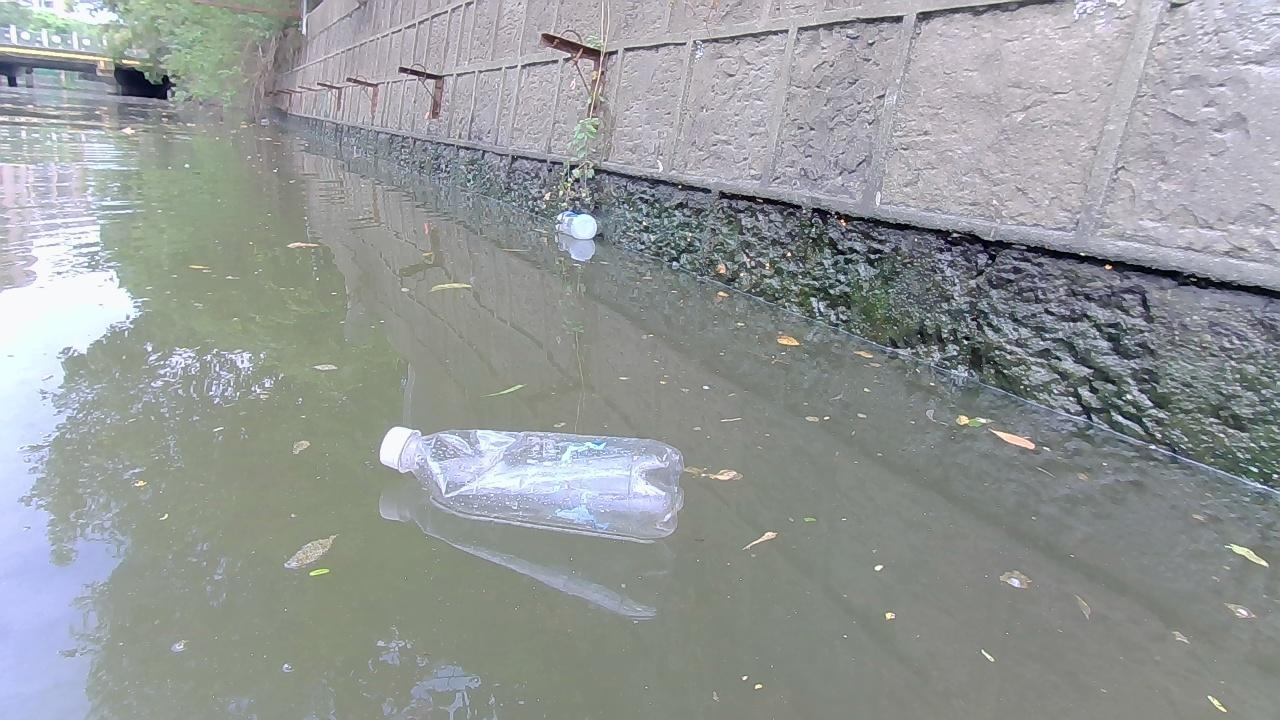bottle: (378, 423, 685, 539), (553, 210, 597, 240)
